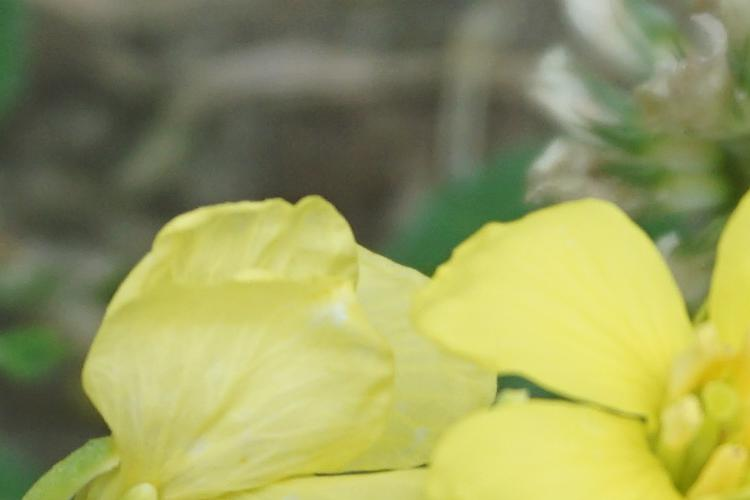yellow: (25, 192, 483, 500), (435, 191, 748, 496)
